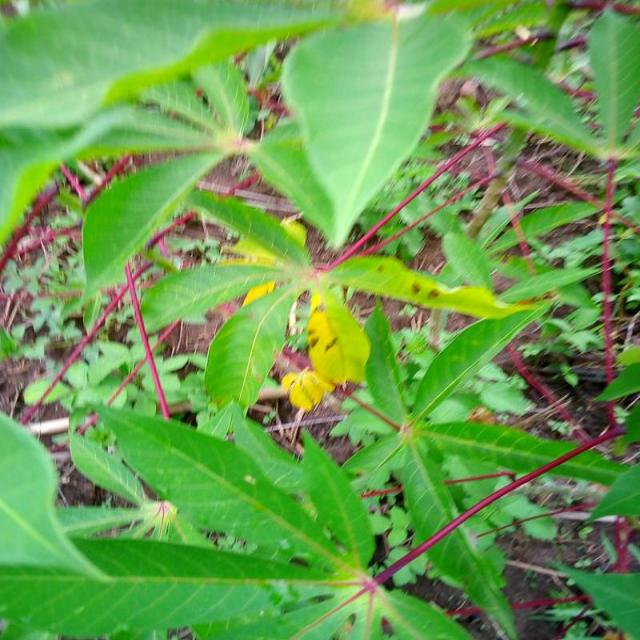cassava leaf: (1, 1, 638, 637), (253, 1, 475, 251)
